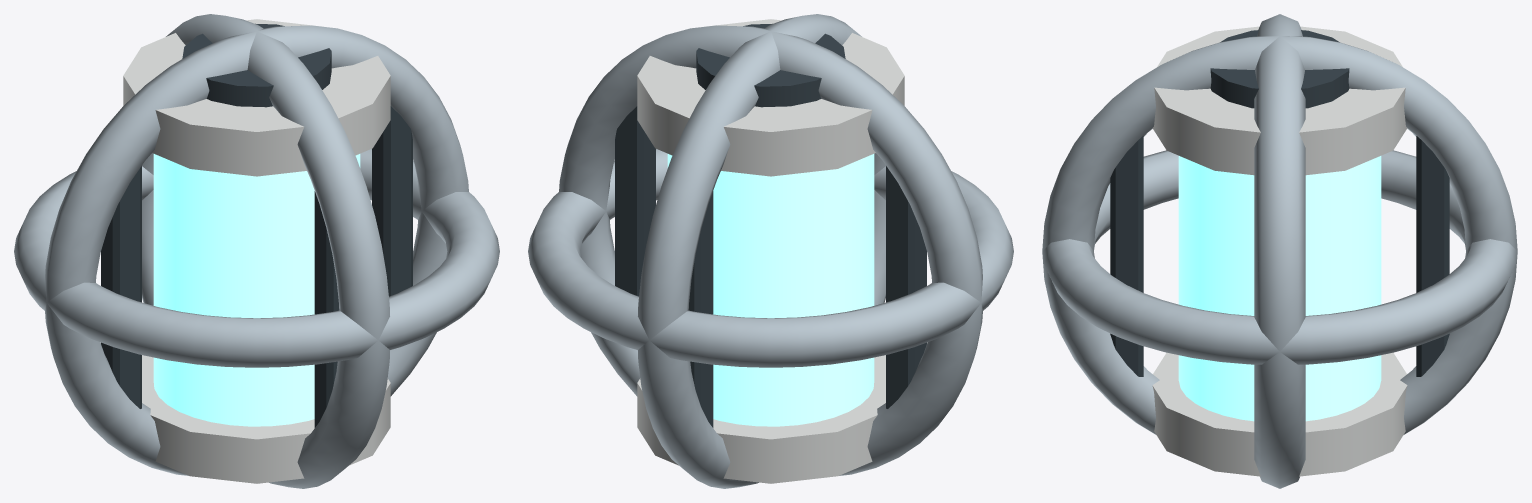
File: energy_core.glb
3 renders of one model, left to right at view 1: azimuth 30°, elevation 25°; view 2: azimuth 150°, elevation 25°; view 3: azimuth 270°, elevation 25°, orthographic. The views are drawn at different scales.
Visible parts, largest first — view 1: magnetic_ring (×3), containment_cell, ceramic_end (×2), containment_rib (×3), end_contact; view 2: magnetic_ring (×3), containment_cell, ceramic_end (×2), containment_rib (×3), end_contact; view 3: magnetic_ring (×3), containment_cell, ceramic_end (×2), containment_rib (×2), end_contact.
Part boxes in pixels (left/top/right/bottom): magnetic_ring (×3): left=14, top=14, right=499, bottom=488; containment_cell: left=153, top=154, right=360, bottom=426; ceramic_end (×2): left=123, top=19, right=390, bottom=483; containment_rib (×3): left=101, top=106, right=412, bottom=427; end_contact: left=182, top=23, right=331, bottom=107; magnetic_ring (×3): left=528, top=14, right=1013, bottom=488; containment_cell: left=667, top=154, right=874, bottom=426; ceramic_end (×2): left=637, top=19, right=904, bottom=483; containment_rib (×3): left=615, top=106, right=926, bottom=427; end_contact: left=696, top=23, right=845, bottom=107; magnetic_ring (×3): left=1042, top=14, right=1517, bottom=488; containment_cell: left=1178, top=156, right=1381, bottom=421; ceramic_end (×2): left=1152, top=26, right=1407, bottom=476; containment_rib (×2): left=1110, top=136, right=1449, bottom=376; end_contact: left=1210, top=30, right=1349, bottom=108.
Size of the model in its own units: 0.258 by 0.258 by 0.258.
